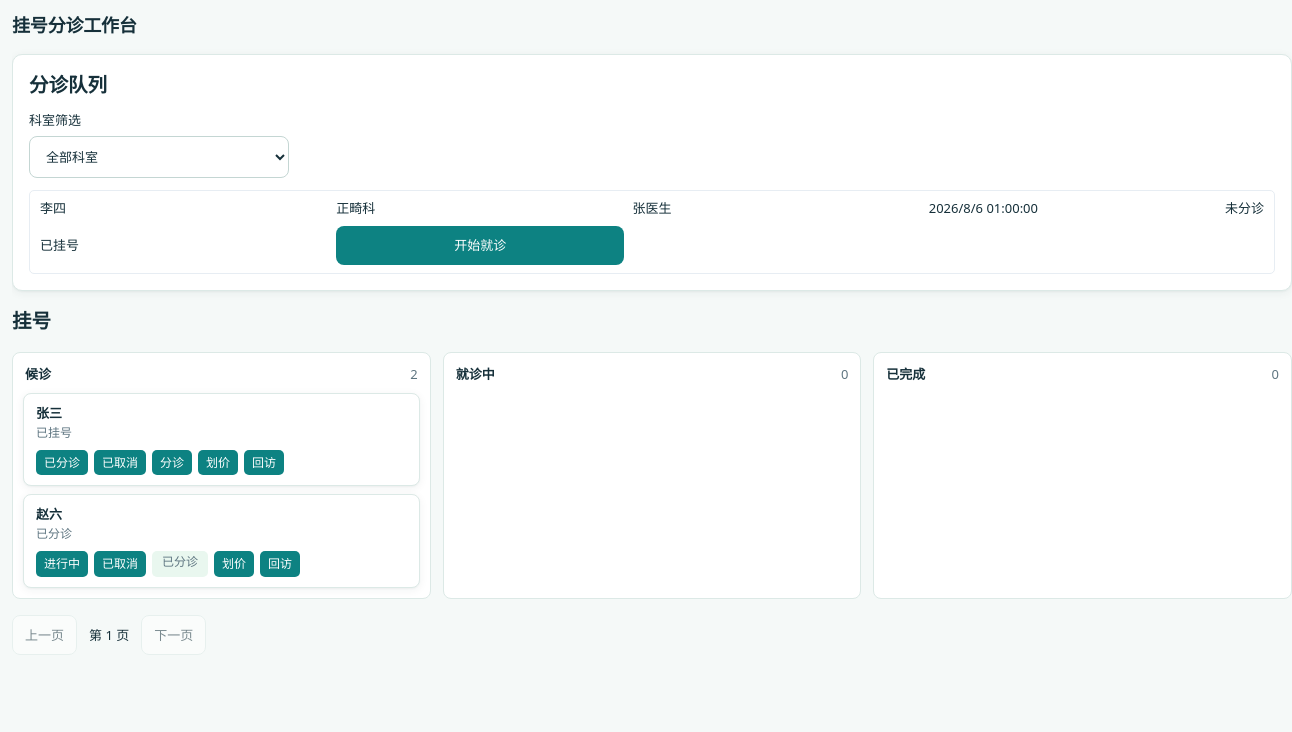
Test case: FrontDeskWorkflowPage › transitions a REGISTERED registration to TRIAGED
The image size is (1292, 732).
Click the button "已分诊".
click(62, 463)  # box [36,450,88,475]
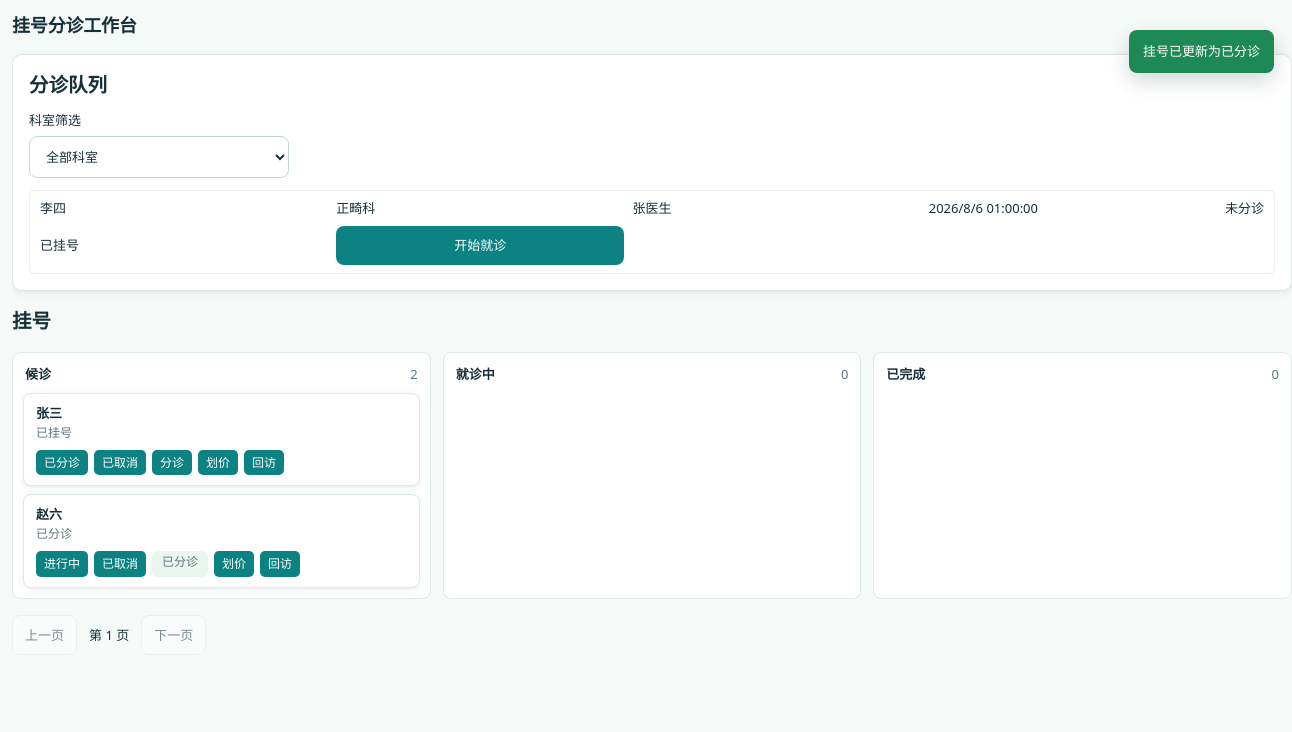
Now the text "挂号已更新为" is shown, box [1143,42,1260,60]
